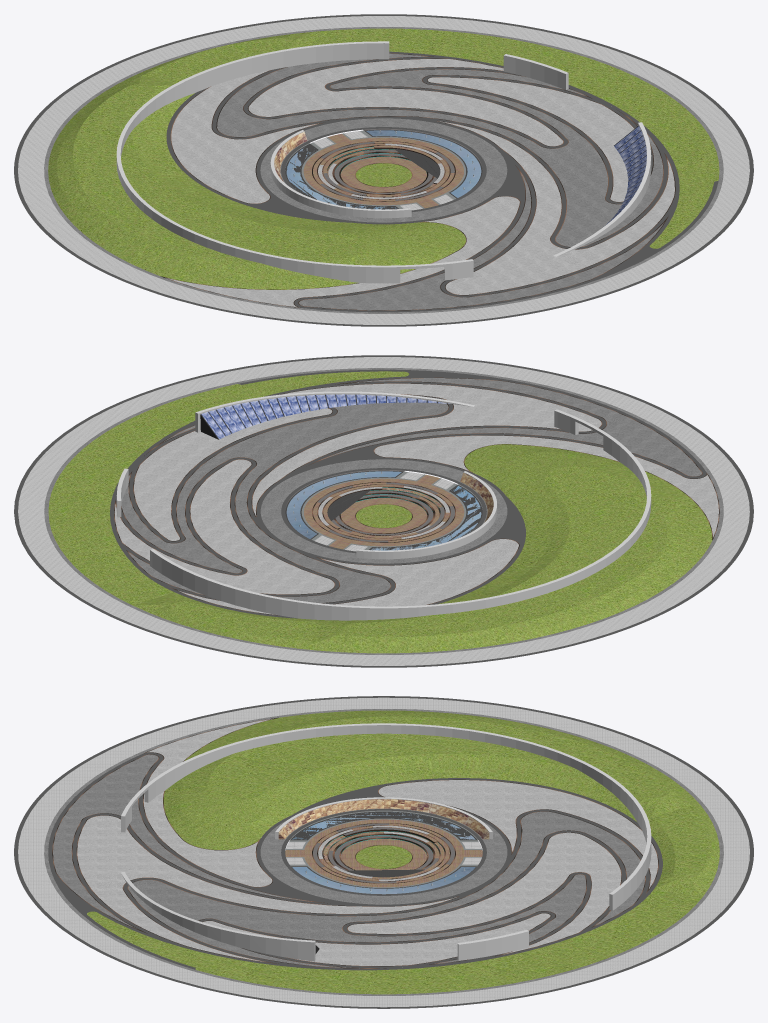
The model's file is nature.fbx.
3 renders of one model, top to bottom at view 1: azimuth 30°, elevation 25°; view 2: azimuth 150°, elevation 25°; view 3: azimuth 270°, elevation 25°, orthographic.
Parts seen in each view (by area): view 1: ^[68034]_3, ^[68034]_6, qingmo_obj_3019 [81270], ^[68034]_7, ^[68034]_4, ^[78331]_2, ^[68034]_5, qingmo_obj_3017 [17714], ^[68034]_2, ^[48991]_4, ^[48991]_5, qingmo_obj_2953 [48140]_2 (+8 smaller); view 2: ^[68034]_3, qingmo_obj_3019 [81270], ^[68034]_6, ^[68034]_7, ^[68034]_4, ^[78331]_2, ^[68034]_5, qingmo_obj_3017 [17714], ^[68034]_2, ^[48991]_4, qingmo_obj_2953 [48140]_2, ^[48991]_5 (+7 smaller); view 3: ^[68034]_3, qingmo_obj_3019 [81270], ^[68034]_6, ^[68034]_7, ^[68034]_4, ^[78331]_2, ^[68034]_5, qingmo_obj_3017 [17714], ^[68034]_2, ^[48991]_4, ^[7374], qingmo_obj_2951 [28966] (+9 smaller).
Boxes of the visible parts, <box> form: ^[68034]_3: <box>165,59,674,307</box>; ^[68034]_6: <box>44,27,723,313</box>; qingmo_obj_3019 [81270]: <box>48,28,528,289</box>; ^[68034]_7: <box>18,16,749,324</box>; ^[68034]_4: <box>14,14,753,326</box>; ^[78331]_2: <box>73,84,369,263</box>; ^[68034]_5: <box>464,42,719,248</box>; qingmo_obj_3017 [17714]: <box>116,41,473,283</box>; ^[68034]_2: <box>160,53,675,310</box>; ^[48991]_4: <box>303,133,463,208</box>; ^[48991]_5: <box>312,141,455,201</box>; qingmo_obj_2953 [48140]_2: <box>286,130,481,209</box>; ^[68034]_3: <box>114,383,718,614</box>; qingmo_obj_3019 [81270]: <box>49,444,712,653</box>; ^[68034]_6: <box>44,368,723,654</box>; ^[68034]_7: <box>18,357,749,665</box>; ^[68034]_4: <box>14,355,753,667</box>; ^[78331]_2: <box>342,466,667,636</box>; ^[68034]_5: <box>48,371,409,537</box>; qingmo_obj_3017 [17714]: <box>150,409,651,620</box>; ^[68034]_2: <box>114,377,719,615</box>; ^[48991]_4: <box>304,474,464,549</box>; qingmo_obj_2953 [48140]_2: <box>286,471,481,550</box>; ^[48991]_5: <box>312,482,455,542</box>; ^[68034]_3: <box>77,718,657,965</box>; qingmo_obj_3019 [81270]: <box>163,710,719,969</box>; ^[68034]_6: <box>44,709,723,995</box>; ^[68034]_7: <box>18,697,749,1007</box>; ^[68034]_4: <box>14,696,753,1008</box>; ^[78331]_2: <box>207,716,669,800</box>; ^[68034]_5: <box>87,911,572,994</box>; qingmo_obj_3017 [17714]: <box>121,723,651,910</box>; ^[68034]_2: <box>52,717,658,968</box>; ^[48991]_4: <box>285,819,482,887</box>; ^[7374]: <box>121,872,315,961</box>; qingmo_obj_2951 [28966]: <box>278,799,489,839</box>.
Bounding box in the file's own units: 9758 × 9755 × 578.
18 materials, 13 textured.
